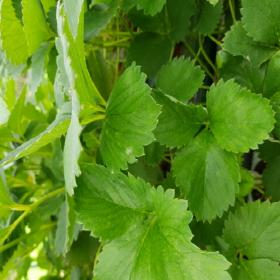Powdery Mildew Leaf: (98, 60, 164, 172)
